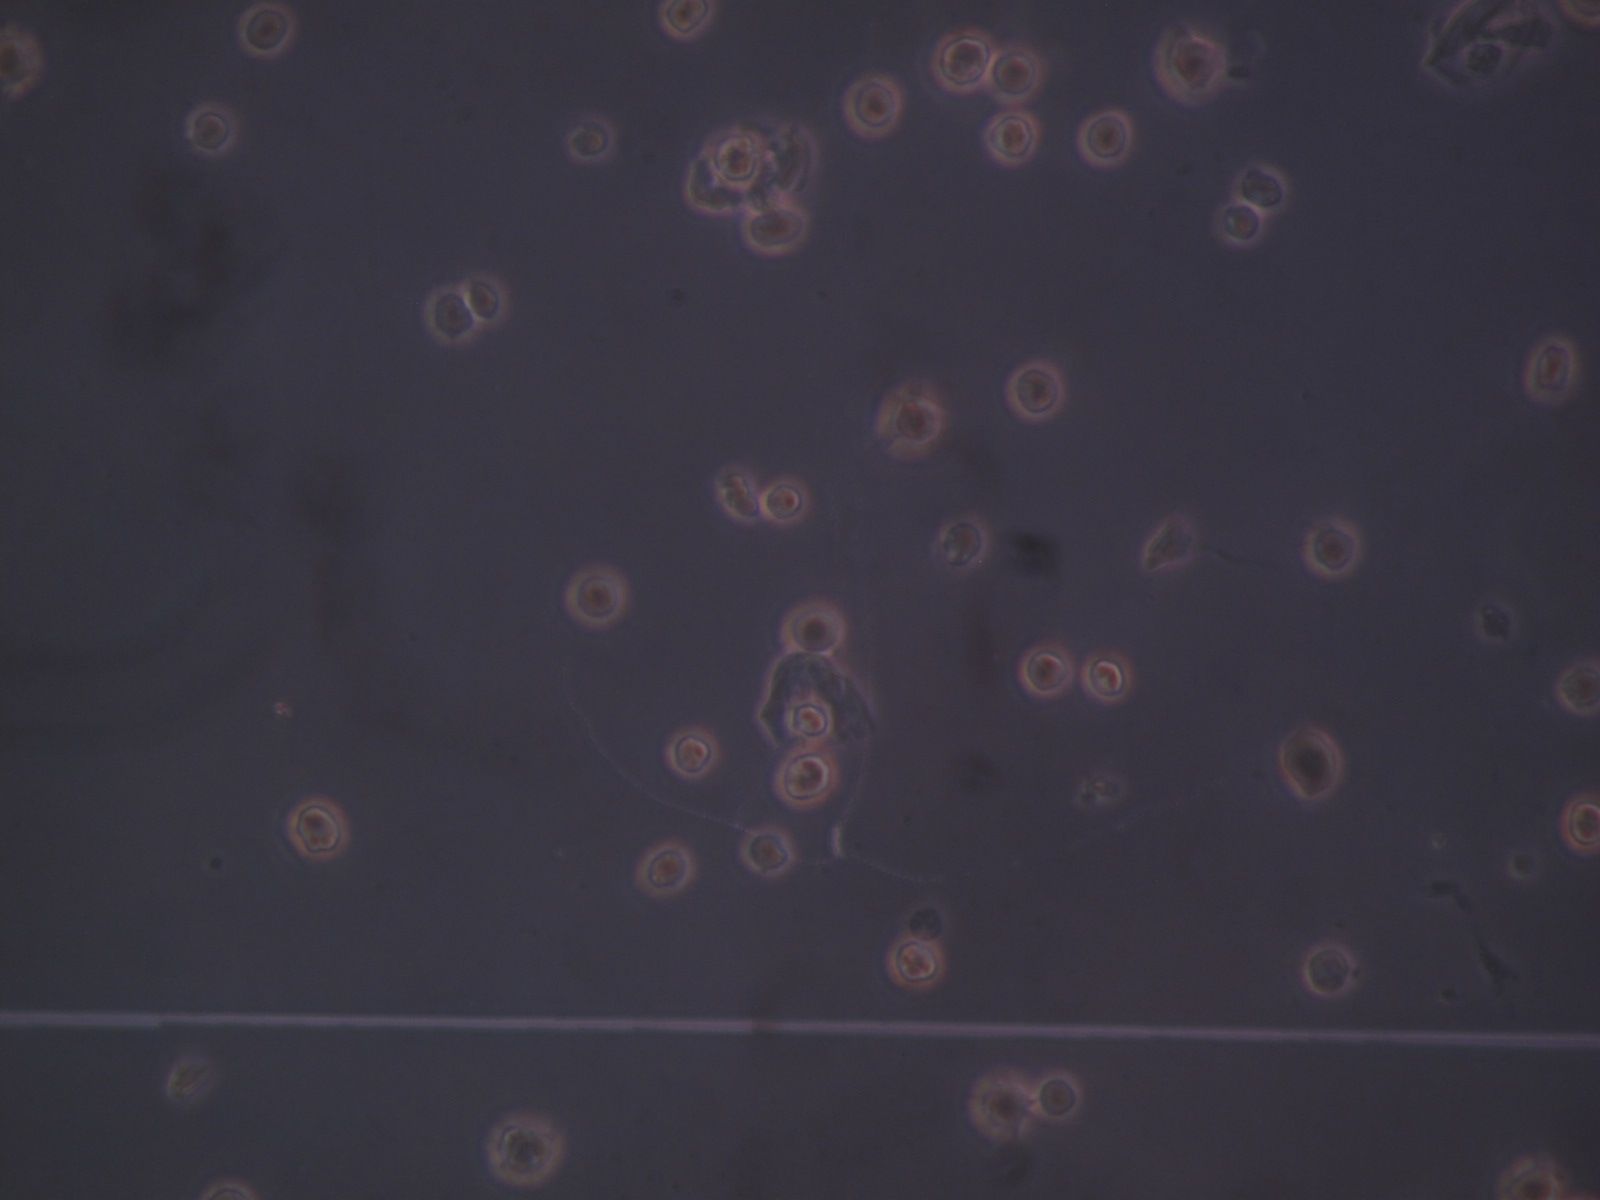hemo: (1155, 21, 1227, 101), (968, 1063, 1038, 1143), (878, 379, 945, 464), (491, 1114, 564, 1186), (1280, 726, 1344, 802), (564, 563, 630, 630), (1522, 335, 1580, 410), (289, 795, 350, 863), (774, 747, 838, 809), (780, 596, 845, 655), (1007, 361, 1067, 424), (842, 76, 901, 139), (1303, 514, 1361, 579), (422, 284, 479, 349), (934, 33, 993, 95), (743, 200, 809, 256), (1497, 1155, 1575, 1200), (1231, 160, 1291, 218), (637, 838, 693, 901), (1301, 942, 1358, 1000), (1077, 110, 1133, 169), (980, 112, 1042, 165), (665, 725, 721, 780), (1020, 642, 1073, 700), (888, 937, 947, 988), (738, 823, 794, 877), (239, 4, 296, 57), (989, 45, 1041, 102), (1081, 649, 1133, 705), (1143, 521, 1198, 572), (711, 134, 761, 190), (186, 105, 241, 156), (462, 274, 511, 330), (1034, 1070, 1083, 1124), (939, 514, 988, 568), (566, 113, 617, 164), (656, 1, 717, 44), (1555, 661, 1600, 717), (761, 475, 809, 528), (1560, 792, 1600, 853), (1220, 199, 1267, 250), (785, 695, 831, 742), (1461, 42, 1509, 82)
